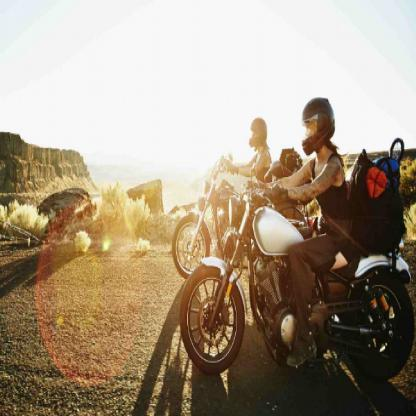helmet: (301, 97, 336, 157), (249, 117, 268, 148)
